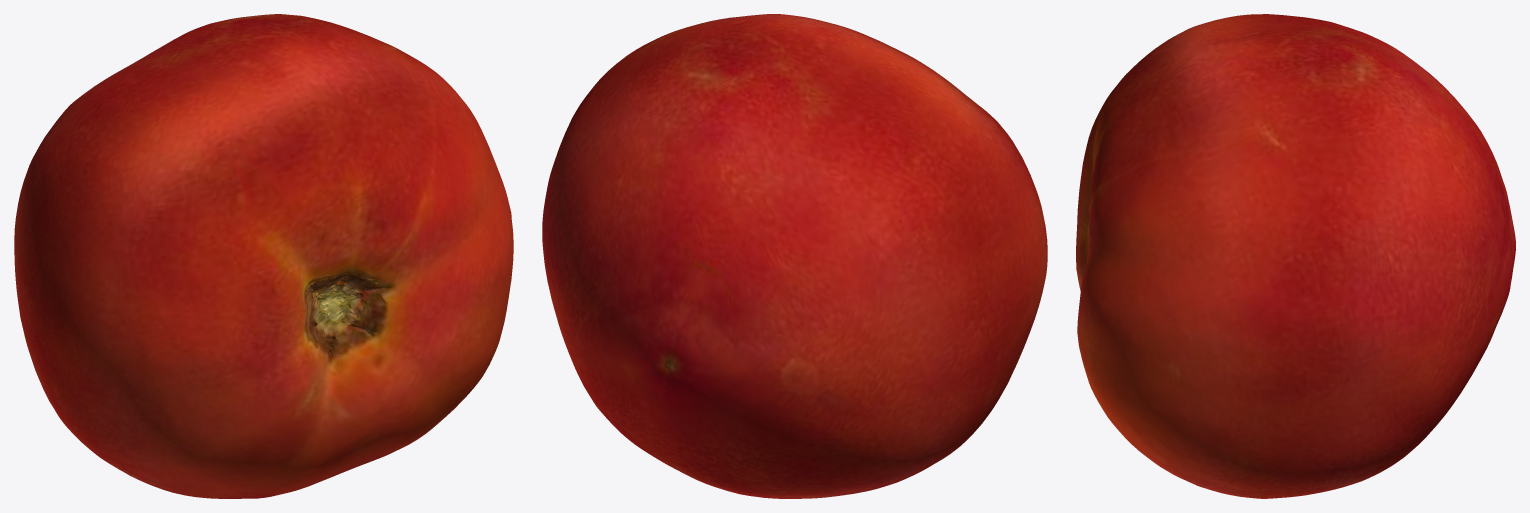
The model's file is tomatoripe2.glb.
The picture shows the model from 3 angles, left to right: view 1: azimuth 30°, elevation 25°; view 2: azimuth 150°, elevation 25°; view 3: azimuth 270°, elevation 25°; orthographic projection.
Parts seen in each view (by area): view 1: tomatoripe2.045; view 2: tomatoripe2.045; view 3: tomatoripe2.045.
Boxes of the visible parts, x1,y1,x2,y2 form: tomatoripe2.045: (14,14,513,498); tomatoripe2.045: (542,14,1047,498); tomatoripe2.045: (1076,14,1515,498).
Size of the model in its own units: 0.0536 by 0.0513 by 0.0469.
Materials: 1 (1 with a texture image).
